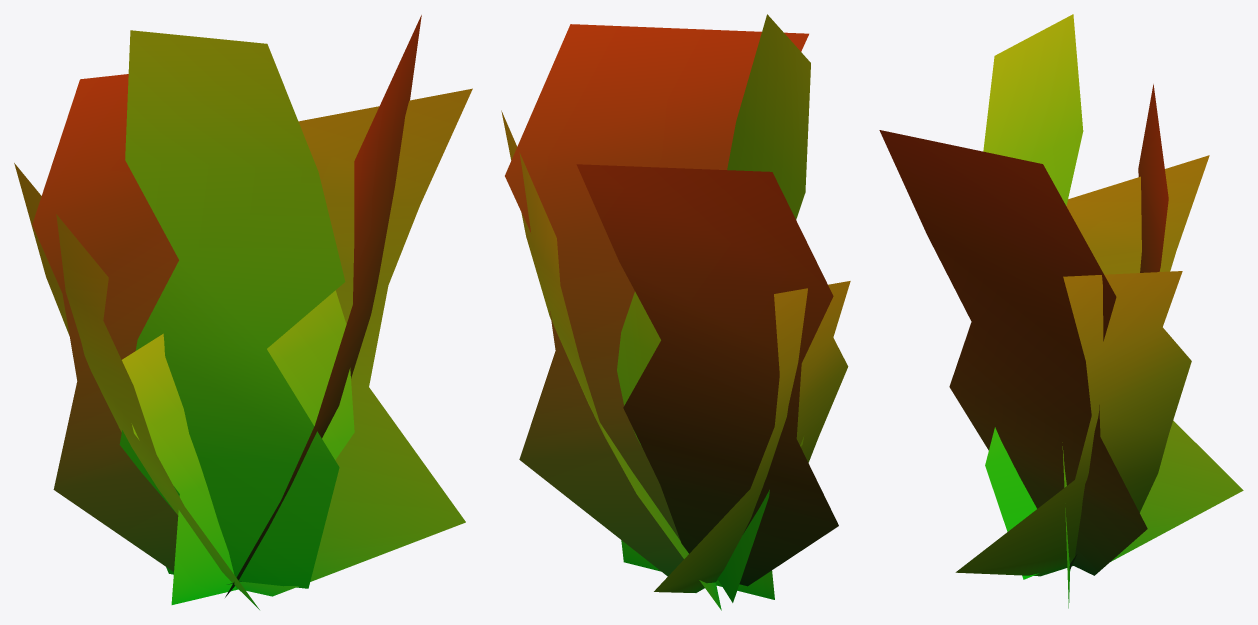
Rendered from Var8Hi45.fbx.
The picture shows the model from 3 angles, left to right: view 1: azimuth 30°, elevation 25°; view 2: azimuth 150°, elevation 25°; view 3: azimuth 270°, elevation 25°; orthographic projection. The views are drawn at different scales.
Parts seen in each view (by area): view 1: bend1; view 2: bend1; view 3: bend1.
Part boxes in pixels (bbox=[...]): bend1: bbox=[14, 15, 472, 609]; bend1: bbox=[501, 14, 850, 610]; bend1: bbox=[879, 14, 1243, 608].
Bounding box in the file's own units: 1.26 × 1.77 × 1.15.
